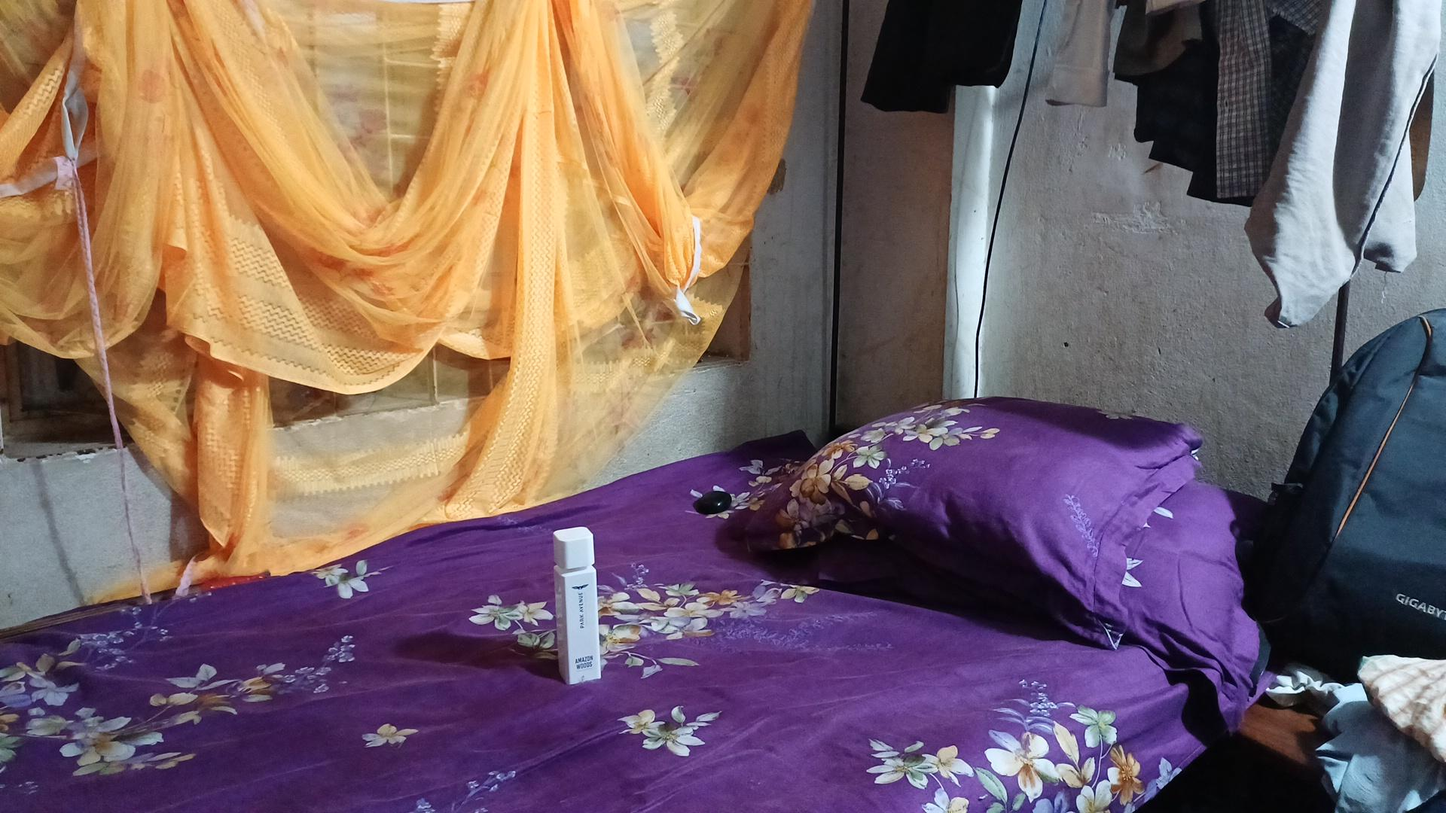Bag: (1235, 297, 1446, 648)
Bottle: (538, 499, 635, 706)
Pillow: (765, 375, 1197, 640)
